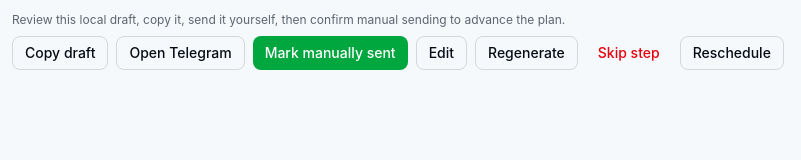
StepReviewActions › requests regeneration without marking the draft sent
The width and height of the screenshot is (801, 160).
Click the button "Regenerate".
click(526, 53)  # box [475,36,578,70]
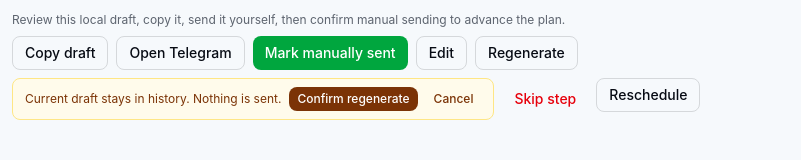
Expected: the text "Current draft stays in history. Nothing is sent." is shown, [25,91,281,107]
Click the button "Confirm regenerate".
click(354, 99)  # box [289,87,418,111]
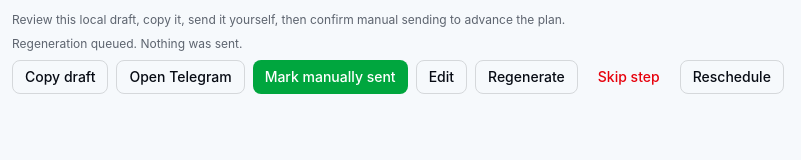
Expected: the text "Regeneration queued. Nothing was sent." is shown, [12,36,242,51]
